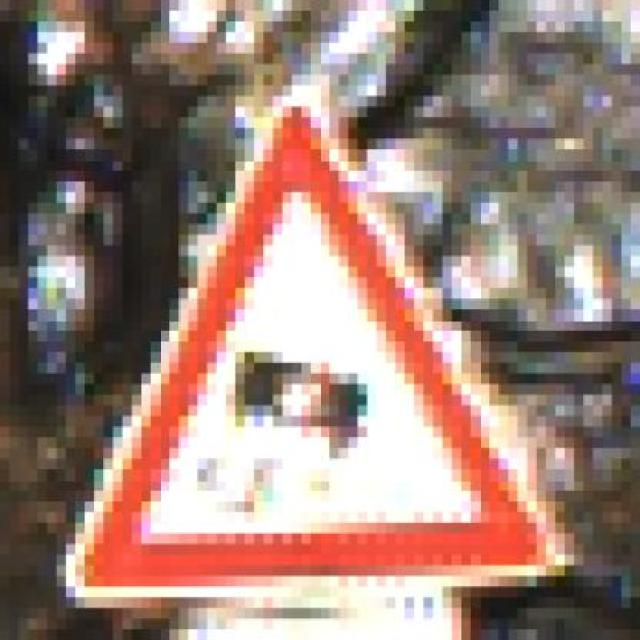Slippery Road Ahead: (46, 96, 592, 609)
